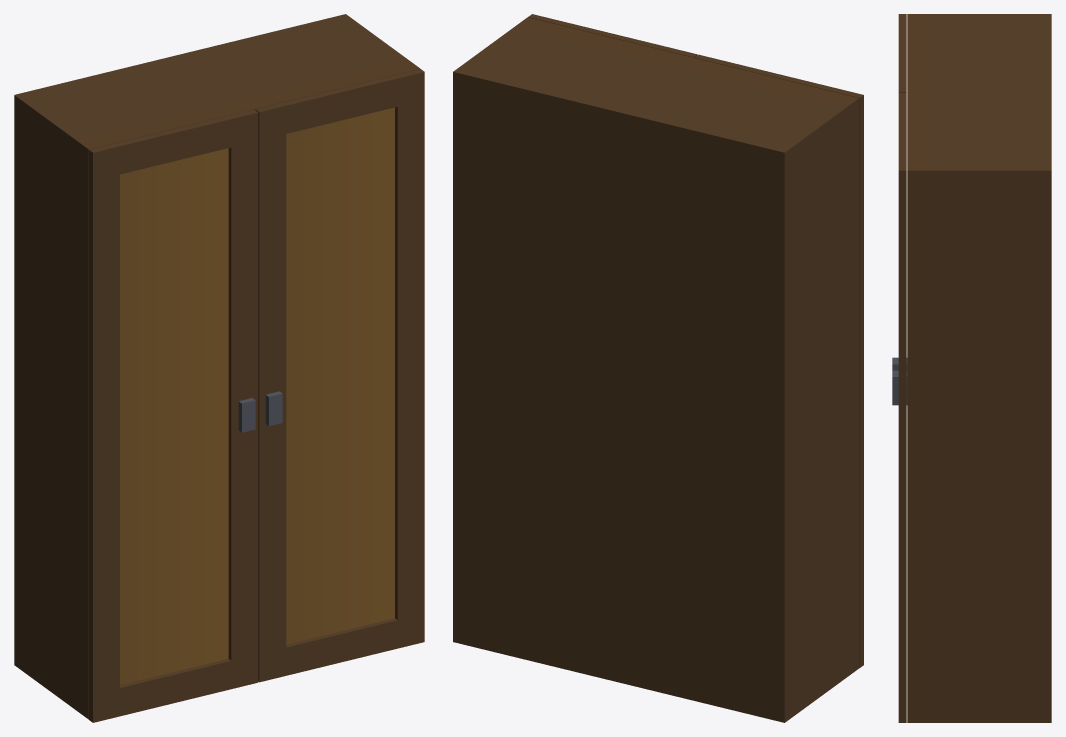
The model's file is Cupboard.fbx.
3 renders of one model, left to right at view 1: azimuth 30°, elevation 25°; view 2: azimuth 150°, elevation 25°; view 3: azimuth 270°, elevation 25°, orthographic. The views are drawn at different scales.
Parts seen in each view (by area): view 1: Cupboard; view 2: Cupboard; view 3: Cupboard.
Boxes of the visible parts, <box> form: Cupboard: <box>14,14,424,722</box>; Cupboard: <box>453,14,863,722</box>; Cupboard: <box>892,14,1051,722</box>.
Bounding box in the file's own units: 122 × 201 × 52.6.
